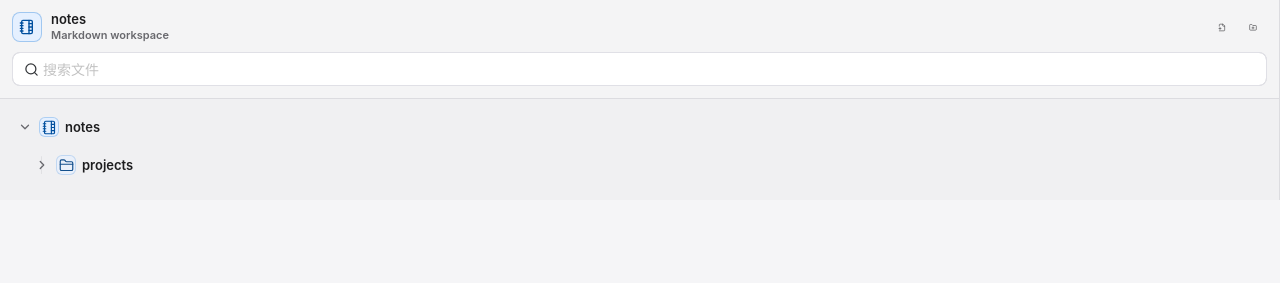
Test: WorkspaceSidebar › reveals matching descendants when filtering collapsed folders
Type "plan" into the field with placeholder "搜索文件". click: (639, 69)
box: [43,52,1235,86]
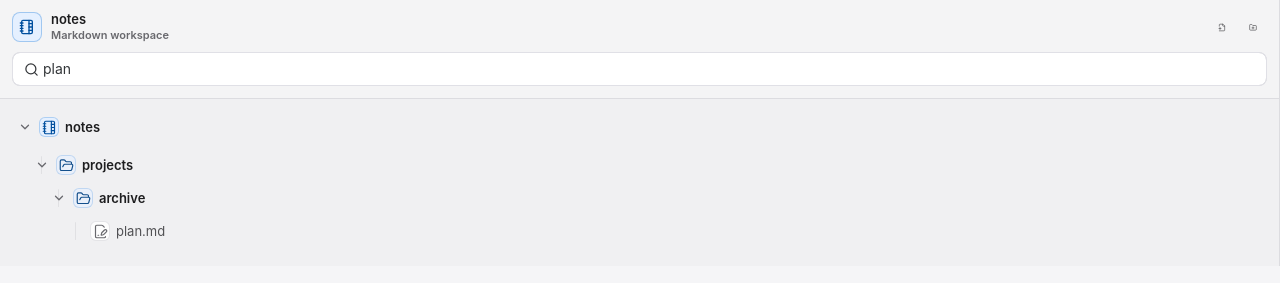
Now the button with test id "folder-projects" is expanded, box [8,149,1271,181]
Now the button with test id "file-projects/archive/plan.md" is shown, box [8,215,1271,247]
Clear the field named "搜索文件". click: (639, 69)
box: [43,52,1235,86]
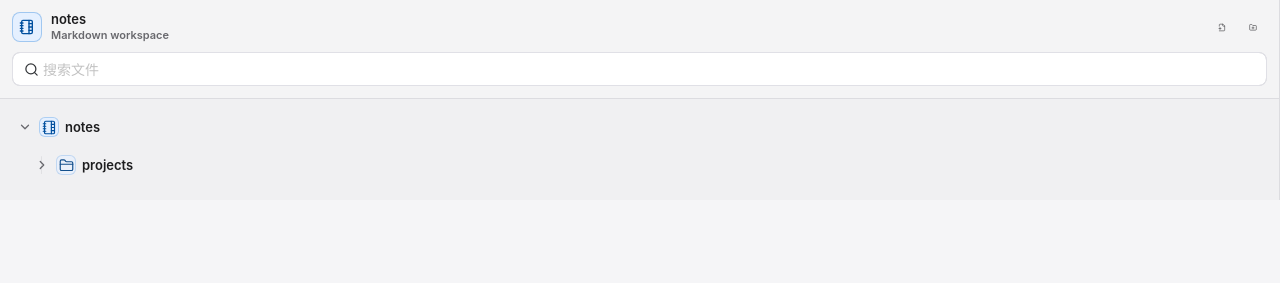
Now the button with test id "folder-projects" is collapsed, box [8,149,1271,181]
